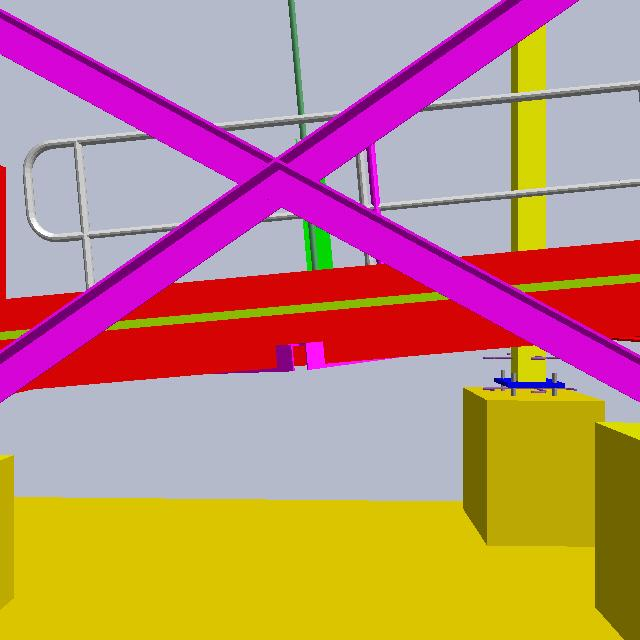Poste: (289, 1, 324, 283), (290, 126, 342, 304)
